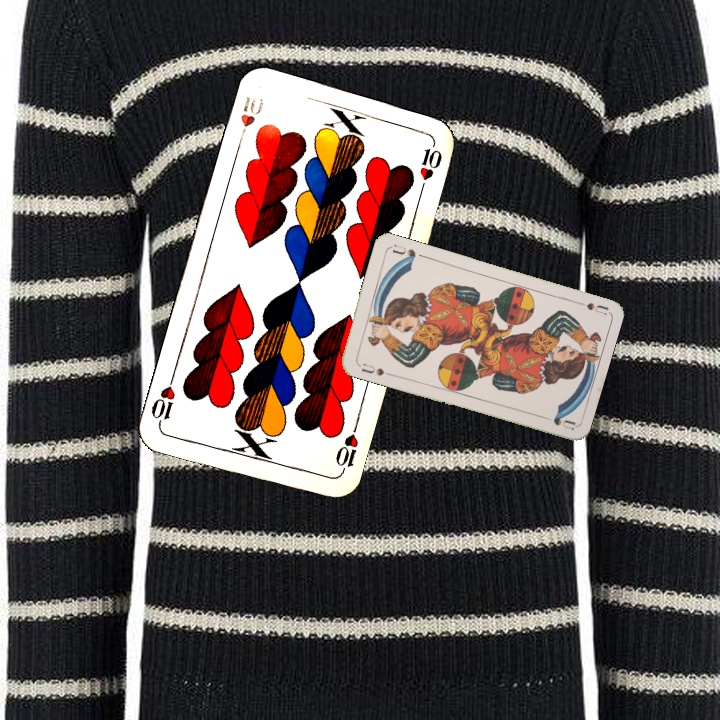H10: (234, 92, 266, 147), (331, 420, 361, 477)
SU: (569, 297, 609, 317), (357, 359, 387, 378)
